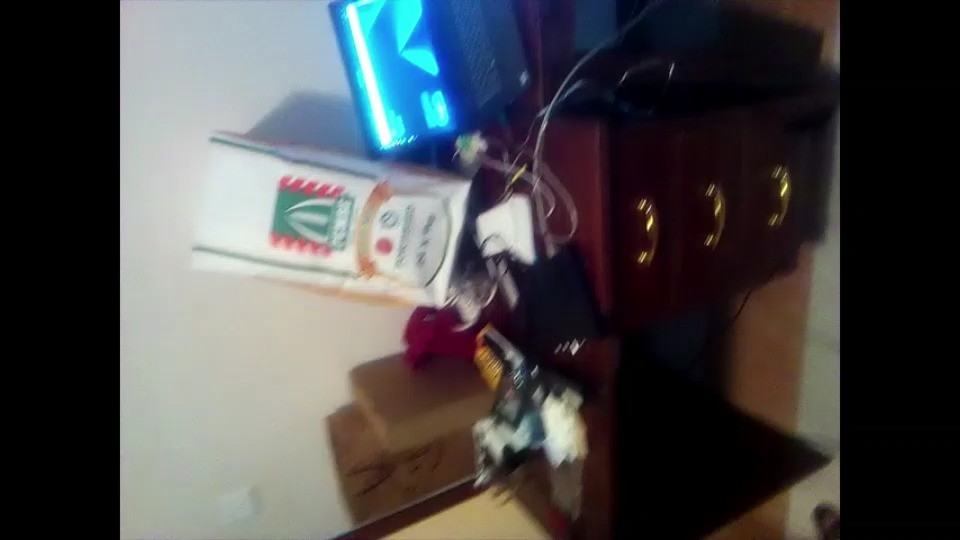maize_flour_green_label: (189, 133, 471, 308)
